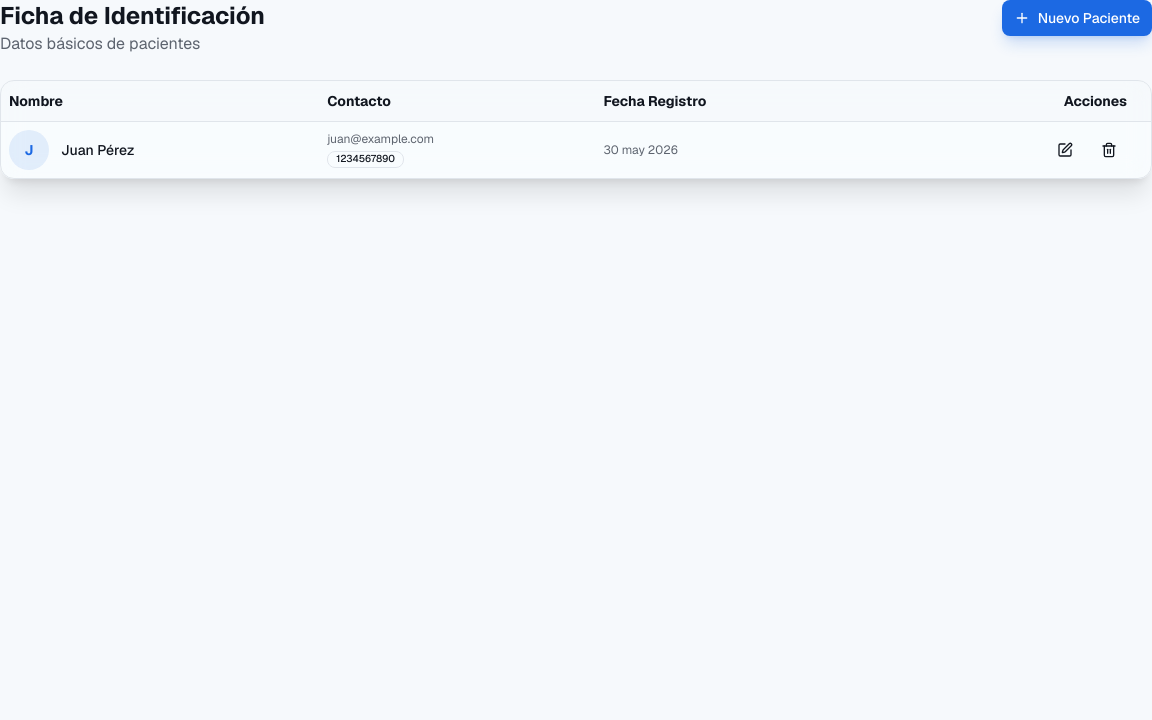
Test: PatientsClient Integration › debería abrir el diálogo en modo edición al hacer clic en editar
Click the button named "Editar paciente". click: coordinates (1065, 150)
box: [1047,132,1083,168]
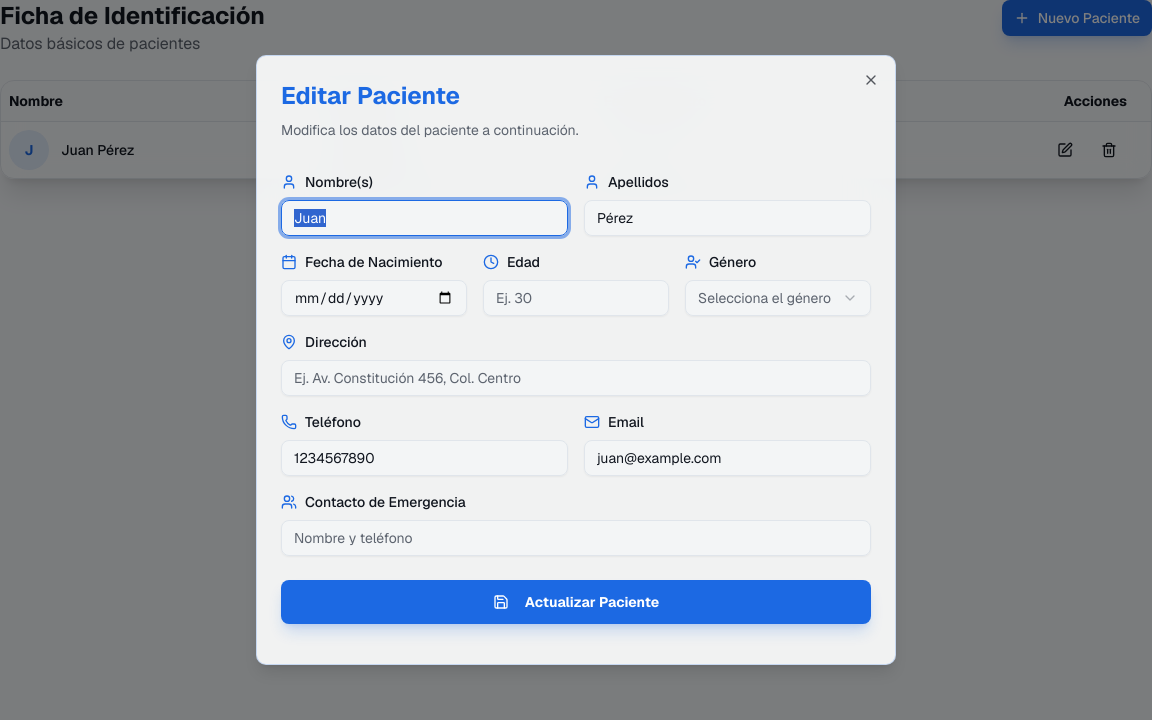
Expected: the heading "Editar Paciente" is shown, [281,80,460,111]
Expected: the field showing "Juan" is shown, [281,200,568,236]
Expected: the field showing "Pérez" is shown, [584,200,871,236]
